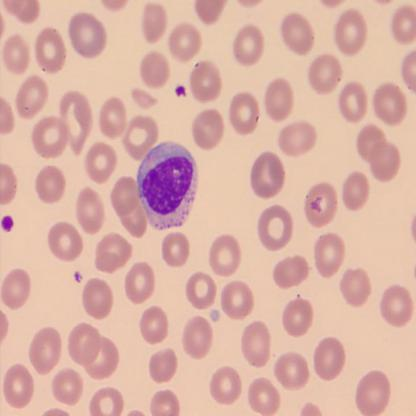Metamyelocyte: (134, 140, 200, 232)
